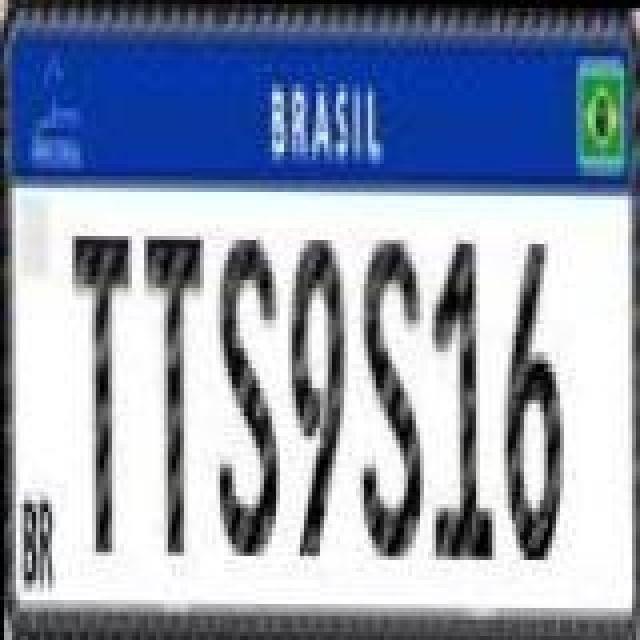1: (428, 230, 496, 566)
6: (498, 230, 562, 566)
9: (288, 224, 348, 560)
S: (216, 226, 284, 562), (358, 228, 422, 564)
T: (72, 232, 132, 556), (144, 232, 204, 556)
